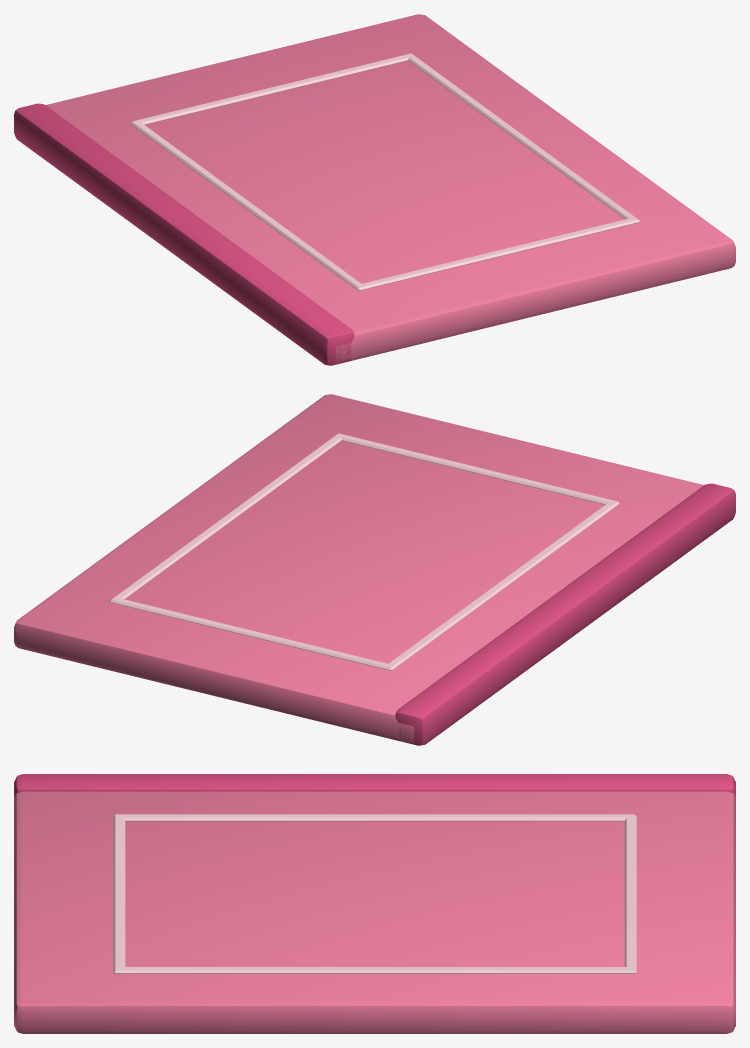
File: caderno_rosa.glb
3 views of the same model, one above another, from view 1: azimuth 30°, elevation 25°; view 2: azimuth 150°, elevation 25°; view 3: azimuth 270°, elevation 25° (orthographic). The views are drawn at different scales.
Parts seen in each view (by area): view 1: caderno_rosa; view 2: caderno_rosa; view 3: caderno_rosa.
Boxes of the visible parts, bbox=[...] form: caderno_rosa: bbox=[14, 14, 735, 365]; caderno_rosa: bbox=[14, 394, 735, 745]; caderno_rosa: bbox=[14, 774, 735, 1033].
Bounding box in the file's own units: 0.181 × 0.0135 × 0.24.
1 material, 1 textured.
